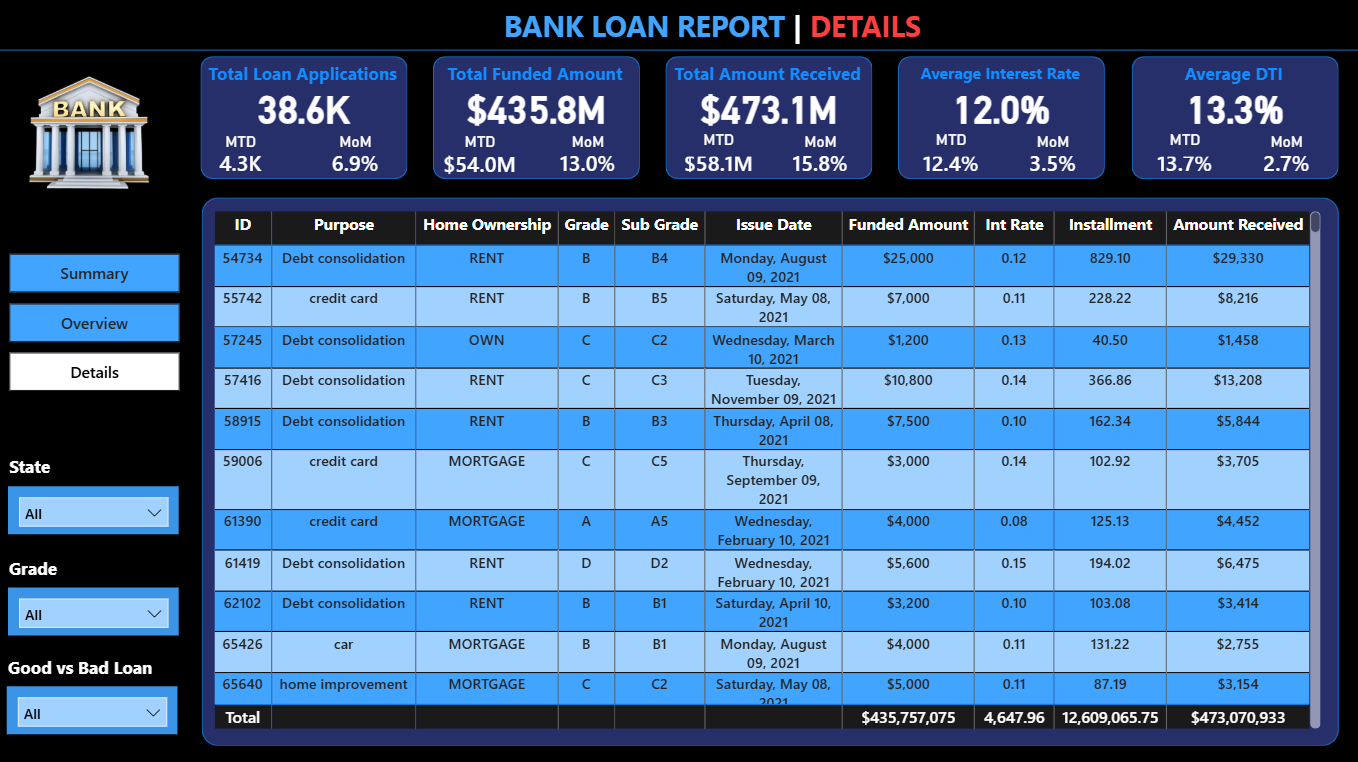

What the dashboard file says about the page in this screenshot:
{"tool":"powerbi","page":{"name":"Details","canvas":[1280,720],"ordinal":2},"visuals":[{"type":"shape","box":[0,52.1,181.3,668.1],"z":0},{"type":"shape","box":[0,0,1280,51.9],"z":1000},{"type":"textbox","box":[427.1,6,488.6,45.8],"z":2000},{"type":"group","id":"g1","title":"Group 1","box":[171.3,56.7,235.3,114.6],"z":3000},{"type":"group","id":"g2","title":"Group 1","box":[388.5,56.9,234.8,115.6],"z":4000},{"type":"group","id":"g3","title":"Group 1","box":[605.3,56.9,234.8,114.9],"z":5000},{"type":"group","id":"g4","title":"Group 1","box":[822,56.9,235.7,115.2],"z":6000},{"type":"shape","box":[193.6,57,193,114.6],"z":6500,"group":"g1"},{"type":"shape","box":[410.8,57.2,193,114.6],"z":6500,"group":"g2"},{"type":"shape","box":[627.6,57.2,193,114.6],"z":6500,"group":"g3"},{"type":"shape","box":[844.3,57.2,193,114.6],"z":6500,"group":"g4"},{"type":"shape","box":[1061.9,57.2,193,114.6],"z":6500,"group":"g5"},{"type":"card","fields":{"Values":["Bank_Loan_Data.Total Loan Applications"]},"box":[216.2,75.9,146.2,53.9],"z":6750,"group":"g1"},{"type":"card","fields":{"Values":["Bank_Loan_Data.Total Funded Amount"]},"box":[433.4,76.1,146.2,53.9],"z":6750,"group":"g2"},{"type":"card","fields":{"Values":["Bank_Loan_Data.Total Amount Received"]},"box":[650.2,76.1,146.2,53.9],"z":6750,"group":"g3"},{"type":"card","fields":{"Values":["Bank_Loan_Data.Avg Interest Rate"]},"box":[866.9,76.1,146.2,53.9],"z":6750,"group":"g4"},{"type":"card","fields":{"Values":["Bank_Loan_Data.Avg DTI"]},"box":[1084.5,76.1,146.2,53.9],"z":6750,"group":"g5"},{"type":"textbox","box":[171.3,56.7,234.8,37.2],"z":7000,"group":"g1"},{"type":"textbox","box":[388.5,56.9,234.8,37.2],"z":7000,"group":"g2"},{"type":"textbox","box":[605.3,56.9,234.8,37.2],"z":7000,"group":"g3"},{"type":"textbox","box":[822,56.9,234.8,37.2],"z":7000,"group":"g4"},{"type":"group","id":"g5","title":"Group 1","box":[1039.6,56.9,235.7,115.2],"z":7000},{"type":"textbox","box":[1039.6,56.9,234.8,37.2],"z":7000,"group":"g5"},{"type":"card","title":"MoM","fields":{"Values":["Bank_Loan_Data.MoM Loan Applications"]},"box":[302.1,127.2,72.4,44.3],"z":7500,"group":"g1"},{"type":"card","title":"MoM","fields":{"Values":["Bank_Loan_Data.MoM Total Funded Amount"]},"box":[519.3,127.4,72.4,44.3],"z":7500,"group":"g2"},{"type":"card","title":"MoM","fields":{"Values":["Bank_Loan_Data.MoM Total Amount Received"]},"box":[736.1,127.4,72.4,44.3],"z":7500,"group":"g3"},{"type":"card","title":"MoM","fields":{"Values":["Bank_Loan_Data.MoM Avg Interest Rate"]},"box":[952.8,127.4,72.4,44.3],"z":7500,"group":"g4"},{"type":"card","title":"MoM","fields":{"Values":["Bank_Loan_Data.MoM Avg DTI"]},"box":[1170.4,127.4,72.4,44.3],"z":7500,"group":"g5"},{"type":"card","title":"MTD","fields":{"Values":["Bank_Loan_Data.MTD Amount Received"]},"box":[637.1,125.7,80.8,41],"z":8000,"group":"g3"},{"type":"card","title":"MTD","fields":{"Values":["Bank_Loan_Data.MTD Avg Interest Rate"]},"box":[853.8,125.7,80.8,41],"z":8000,"group":"g4"},{"type":"card","title":"MTD","fields":{"Values":["Bank_Loan_Data.MTD Avg DTI"]},"box":[1071.4,125.7,80.8,41],"z":8000,"group":"g5"},{"type":"card","title":"MTD","fields":{"Values":["Bank_Loan_Data.MTD Loan Applications"]},"box":[197.3,127.2,67.9,44.3],"z":8000,"group":"g1"},{"type":"card","title":"MTD","fields":{"Values":["Bank_Loan_Data.MTD Funded Amount"]},"box":[414.6,127.5,80.8,45],"z":8000,"group":"g2"},{"type":"slicer","fields":{"Values":["Bank_Loan_Data.address_state"]},"box":[14.5,458.4,159.2,44.6],"z":8000},{"type":"textbox","box":[4.8,423.5,59.1,38.6],"z":9000},{"type":"slicer","fields":{"Values":["Bank_Loan_Data.grade"]},"box":[14.5,552.5,159.2,44.6],"z":10000},{"type":"textbox","box":[2.4,518.8,70,38.6],"z":11000},{"type":"slicer","fields":{"Values":["Bank_Loan_Data.Good vs Bad Loan"]},"box":[13.3,644.2,159.2,44.6],"z":12000},{"type":"textbox","box":[3.6,610.5,155.6,38.6],"z":13000},{"type":"group","id":"g6","title":"Group 2","box":[194.2,188.4,1060.5,511.5],"z":16000},{"type":"tableEx","fields":{"Values":["Bank_Loan_Data.id","Bank_Loan_Data.purpose","Bank_Loan_Data.home_ownership","Bank_Loan_Data.grade","Bank_Loan_Data.sub_grade","Bank_Loan_Data.issue_date","Bank_Loan_Data.Total Funded Amount","Sum(Bank_Loan_Data.int_rate)","Sum(Bank_Loan_Data.installment)","Bank_Loan_Data.Total Amount Received"]},"box":[200.3,196.7,1042.4,492.2],"z":17000},{"type":"image","box":[6,56.7,165.3,148.4],"z":18000},{"type":"pageNavigator","box":[15.7,241.3,159.2,130.3],"z":19000},{"type":"shape","box":[194.2,188.4,1060.5,511.5],"z":20000,"group":"g6"}]}

Visuals, with their boxes in screenshot pixels (x1, y1, x2, y2), scaled from the page's 1280x720 canvas onto the 1358x762 screenshot:
shape: (x1=0, y1=55, x2=192, y2=761)
shape: (x1=0, y1=0, x2=1357, y2=55)
textbox: (x1=453, y1=6, x2=972, y2=55)
"Group 1" group: (x1=182, y1=60, x2=431, y2=181)
"Group 1" group: (x1=412, y1=60, x2=661, y2=183)
"Group 1" group: (x1=642, y1=60, x2=891, y2=182)
"Group 1" group: (x1=872, y1=60, x2=1122, y2=182)
shape: (x1=205, y1=60, x2=410, y2=182)
shape: (x1=436, y1=61, x2=641, y2=182)
shape: (x1=666, y1=61, x2=871, y2=182)
shape: (x1=896, y1=61, x2=1101, y2=182)
shape: (x1=1127, y1=61, x2=1331, y2=182)
card - Bank_Loan_Data.Total Loan Applications: (x1=229, y1=80, x2=384, y2=137)
card - Bank_Loan_Data.Total Funded Amount: (x1=460, y1=81, x2=615, y2=138)
card - Bank_Loan_Data.Total Amount Received: (x1=690, y1=81, x2=845, y2=138)
card - Bank_Loan_Data.Avg Interest Rate: (x1=920, y1=81, x2=1075, y2=138)
card - Bank_Loan_Data.Avg DTI: (x1=1151, y1=81, x2=1306, y2=138)
textbox: (x1=182, y1=60, x2=431, y2=99)
textbox: (x1=412, y1=60, x2=661, y2=100)
textbox: (x1=642, y1=60, x2=891, y2=100)
textbox: (x1=872, y1=60, x2=1121, y2=100)
"Group 1" group: (x1=1103, y1=60, x2=1353, y2=182)
textbox: (x1=1103, y1=60, x2=1352, y2=100)
"MoM" card: (x1=321, y1=135, x2=397, y2=182)
"MoM" card: (x1=551, y1=135, x2=628, y2=182)
"MoM" card: (x1=781, y1=135, x2=858, y2=182)
"MoM" card: (x1=1011, y1=135, x2=1088, y2=182)
"MoM" card: (x1=1242, y1=135, x2=1319, y2=182)
"MTD" card: (x1=676, y1=133, x2=762, y2=176)
"MTD" card: (x1=906, y1=133, x2=992, y2=176)
"MTD" card: (x1=1137, y1=133, x2=1222, y2=176)
"MTD" card: (x1=209, y1=135, x2=281, y2=182)
"MTD" card: (x1=440, y1=135, x2=526, y2=183)
slicer - Bank_Loan_Data.address_state: (x1=15, y1=485, x2=184, y2=532)
textbox: (x1=5, y1=448, x2=68, y2=489)
slicer - Bank_Loan_Data.grade: (x1=15, y1=585, x2=184, y2=632)
textbox: (x1=3, y1=549, x2=77, y2=590)
slicer - Bank_Loan_Data.Good vs Bad Loan: (x1=14, y1=682, x2=183, y2=729)
textbox: (x1=4, y1=646, x2=169, y2=687)
"Group 2" group: (x1=206, y1=199, x2=1331, y2=741)
tableEx - Bank_Loan_Data.id x Bank_Loan_Data.purpose: (x1=213, y1=208, x2=1318, y2=729)
image: (x1=6, y1=60, x2=182, y2=217)
pageNavigator: (x1=17, y1=255, x2=186, y2=393)
shape: (x1=206, y1=199, x2=1331, y2=741)
